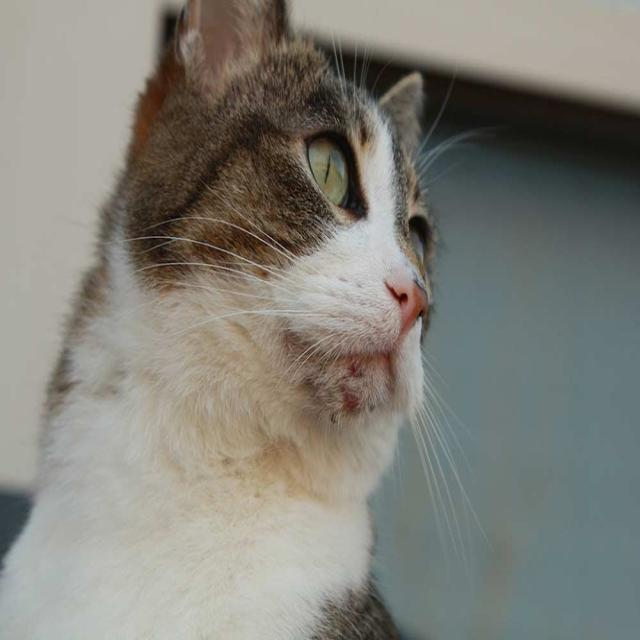cat-dermatitis: (338, 387, 366, 421), (344, 356, 364, 380)
